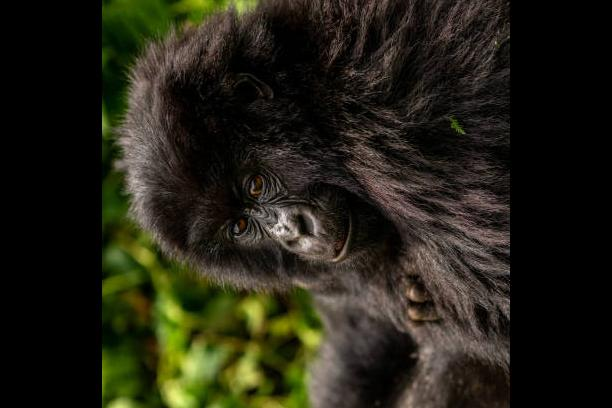goriile_montagne: (104, 0, 505, 308)
